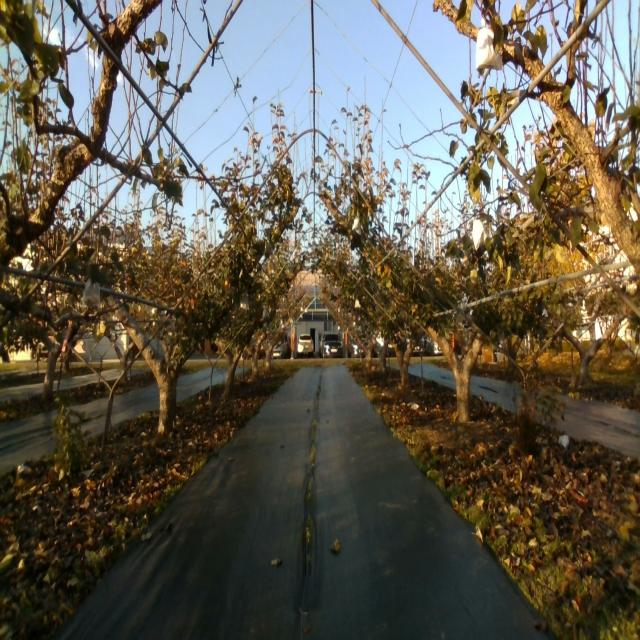pearbags: (476, 18, 503, 70), (472, 218, 487, 252), (83, 278, 100, 307)
